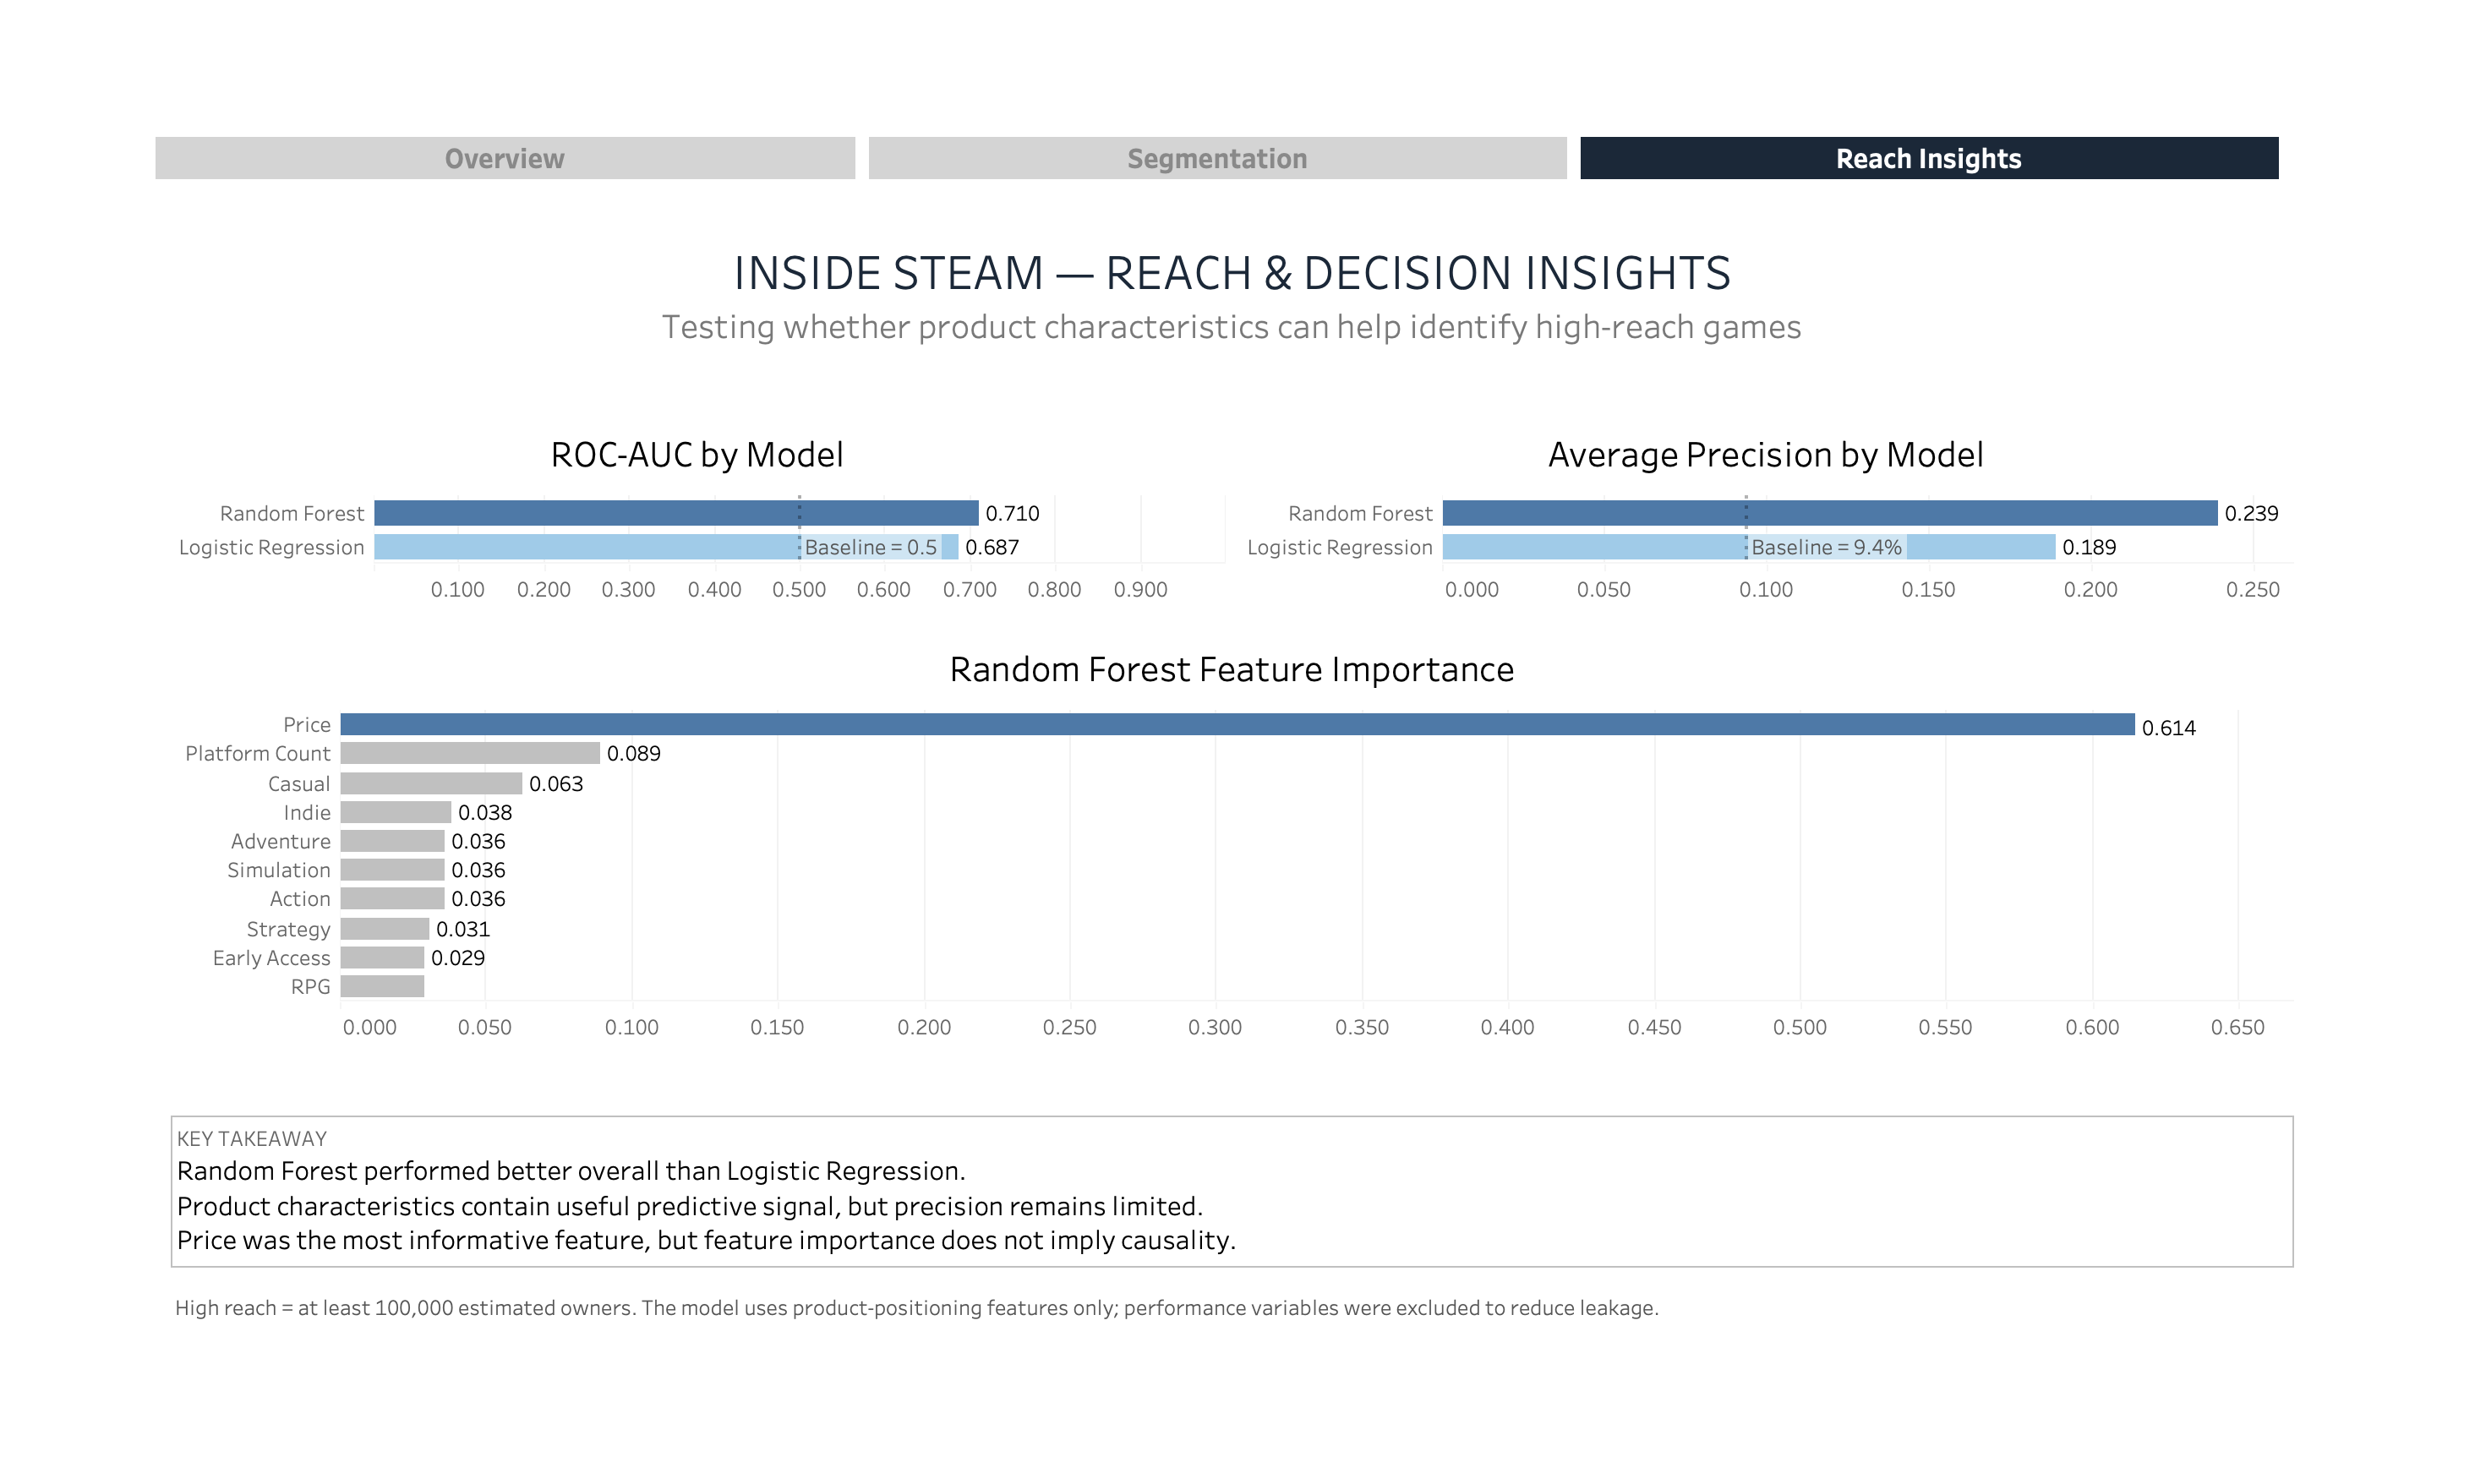

The page's visual inventory and layout, read from the dashboard file:
{"tool":"tableau","page":{"name":"03 — Reach & Decision Insights","canvas":[1280,720],"ordinal":2},"visuals":[{"type":"blank","box":[8,8,1264,45]},{"type":"text","box":[8,53,1264,80]},{"type":"blank","box":[8,133,1264,32]},{"type":"worksheet","title":"ML — ROC AUC","mark":"Bar","rows":["model"],"cols":["roc_auc"],"box":[8,165,632,127]},{"type":"worksheet","title":"ML — Average Precision","mark":"Bar","rows":["model"],"cols":["average_precision"],"box":[640,165,632,127]},{"type":"worksheet","title":"ML — Feature Importance","mark":"Bar","rows":["feature"],"cols":["importance"],"box":[8,292,1264,253]},{"type":"blank","box":[8,545,1264,30]},{"type":"text","box":[8,575,1264,98]},{"type":"text","box":[8,673,1264,39]}]}

Visuals, with their boxes on the page's 1280x720 design canvas (x1, y1, x2, y2). These are canvas units, not pixel positions in the 2475x1484 screenshot, which may show the page scaled, cropped or inside an application window:
blank: {"x1": 8, "y1": 8, "x2": 1272, "y2": 53}
text: {"x1": 8, "y1": 53, "x2": 1272, "y2": 133}
blank: {"x1": 8, "y1": 133, "x2": 1272, "y2": 165}
"ML — ROC AUC" worksheet (Bar marks): {"x1": 8, "y1": 165, "x2": 640, "y2": 292}
"ML — Average Precision" worksheet (Bar marks): {"x1": 640, "y1": 165, "x2": 1272, "y2": 292}
"ML — Feature Importance" worksheet (Bar marks): {"x1": 8, "y1": 292, "x2": 1272, "y2": 545}
blank: {"x1": 8, "y1": 545, "x2": 1272, "y2": 575}
text: {"x1": 8, "y1": 575, "x2": 1272, "y2": 673}
text: {"x1": 8, "y1": 673, "x2": 1272, "y2": 712}
